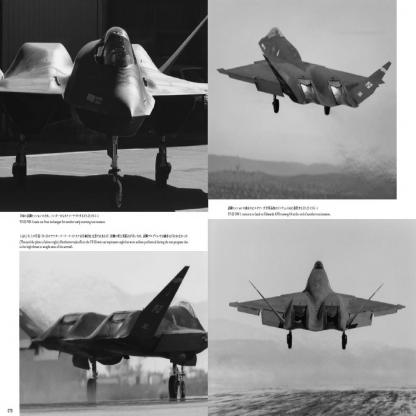YF23: (2, 1, 209, 213), (20, 267, 209, 401), (230, 261, 407, 350), (217, 28, 393, 116)
